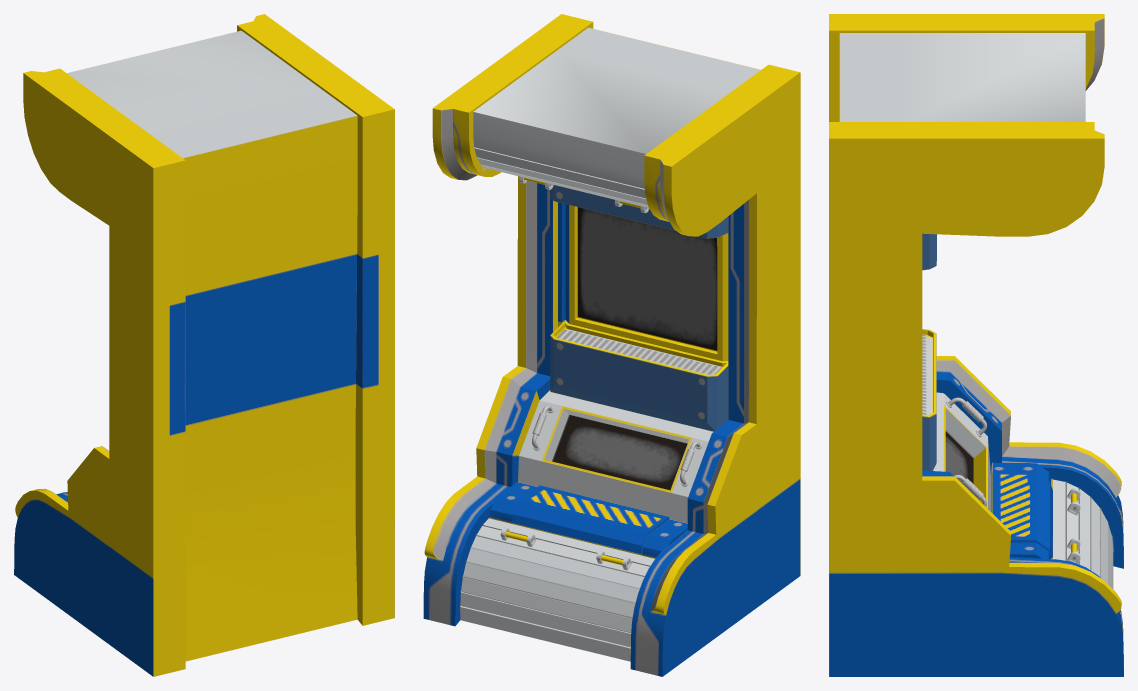
Rendered from SM_Coridor2CrimsonMainWall.fbx.
3 renders of one model, left to right at view 1: azimuth 30°, elevation 25°; view 2: azimuth 150°, elevation 25°; view 3: azimuth 270°, elevation 25°, orthographic. The views are drawn at different scales.
Visible parts, largest first — view 1: SM_Coridor2CrimsonMainWall_LOD0; view 2: SM_Coridor2CrimsonMainWall_LOD0; view 3: SM_Coridor2CrimsonMainWall_LOD0.
Boxes of the visible parts, box(x1,y1,x2,y2) form: SM_Coridor2CrimsonMainWall_LOD0: box(14, 14, 394, 676); SM_Coridor2CrimsonMainWall_LOD0: box(423, 14, 800, 676); SM_Coridor2CrimsonMainWall_LOD0: box(829, 14, 1123, 676).
Bounding box in the file's own units: 201 × 201 × 404.
